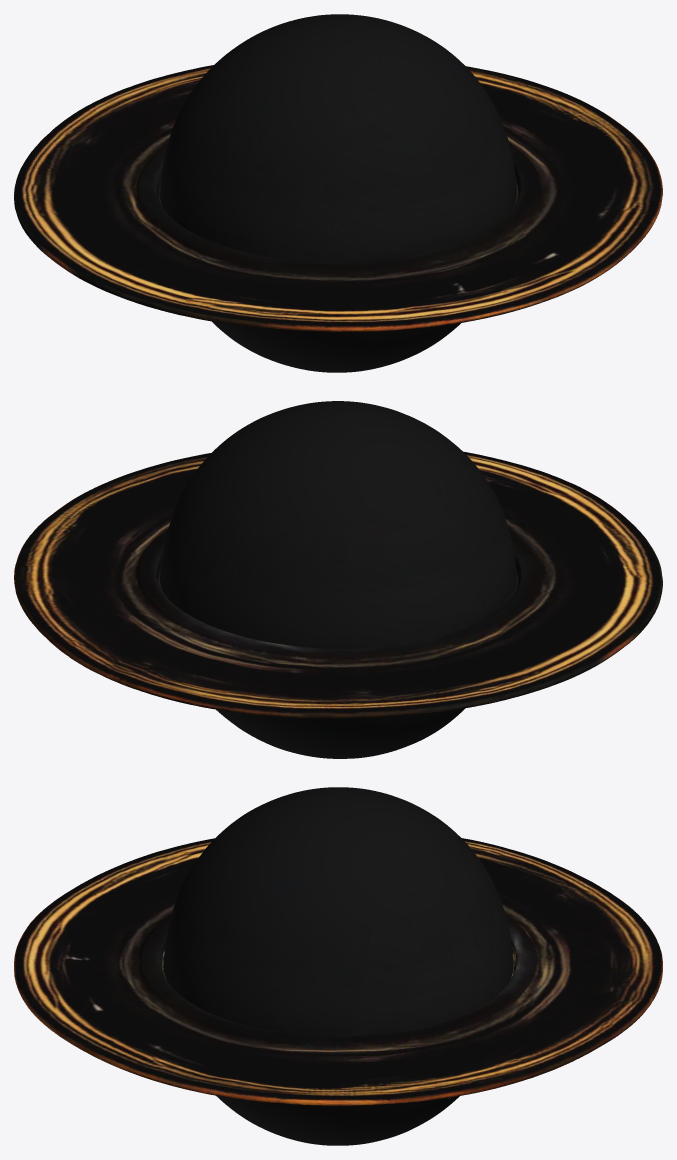
3 renders of one model, top to bottom at view 1: azimuth 30°, elevation 25°; view 2: azimuth 150°, elevation 25°; view 3: azimuth 270°, elevation 25°, orthographic.
Parts seen in each view (by area): view 1: geometry_0; view 2: geometry_0; view 3: geometry_0.
Part boxes in pixels (x1=…): geometry_0: x1=14, y1=14, x2=662, y2=372; geometry_0: x1=14, y1=401, x2=662, y2=758; geometry_0: x1=14, y1=787, x2=662, y2=1145.
Size of the model in its own units: 0.35 by 0.1933 by 0.3501.
Materials: 1 (1 with a texture image).
